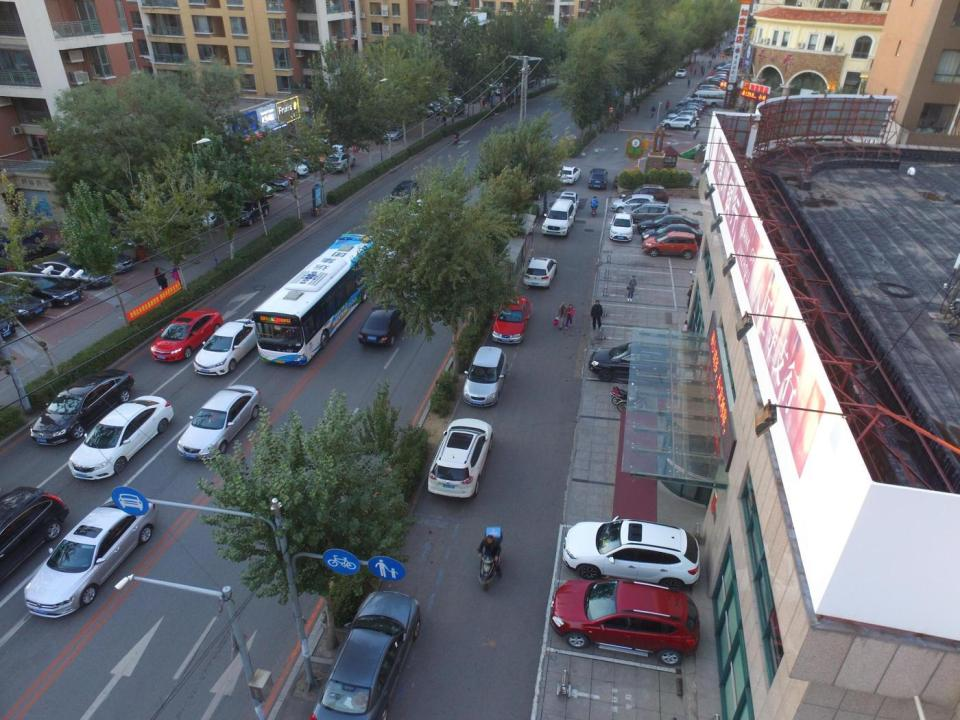bus: (251, 230, 385, 367)
car: (22, 494, 160, 618), (311, 592, 423, 720), (548, 576, 701, 662), (562, 514, 700, 588), (29, 368, 136, 449), (68, 397, 172, 480), (178, 386, 263, 462), (424, 417, 494, 498), (150, 303, 224, 363), (590, 346, 695, 388), (192, 318, 262, 377), (459, 344, 509, 409), (2, 268, 85, 307), (32, 256, 113, 290), (1, 237, 73, 274), (358, 301, 411, 346), (62, 242, 135, 274), (488, 291, 531, 342), (0, 284, 49, 324), (642, 230, 699, 260), (157, 204, 217, 232), (237, 162, 290, 192), (541, 197, 578, 238), (640, 215, 701, 239), (228, 194, 271, 228), (244, 158, 300, 184), (222, 170, 275, 197), (642, 224, 705, 246), (253, 152, 308, 176), (621, 202, 672, 226), (521, 256, 558, 287), (619, 184, 669, 205), (389, 180, 423, 206), (610, 196, 659, 214), (608, 212, 634, 244), (324, 129, 362, 150), (278, 153, 320, 171), (292, 144, 329, 164), (326, 150, 357, 173), (311, 133, 348, 152), (401, 99, 434, 118), (556, 190, 580, 216), (557, 161, 581, 185), (586, 165, 609, 189), (662, 116, 697, 130), (666, 111, 698, 126), (667, 108, 698, 122), (382, 124, 406, 142), (677, 98, 707, 112), (672, 107, 702, 120), (673, 105, 700, 119), (676, 103, 704, 116), (444, 102, 466, 116), (495, 84, 513, 96), (674, 68, 686, 78)
van: (688, 89, 729, 108)
